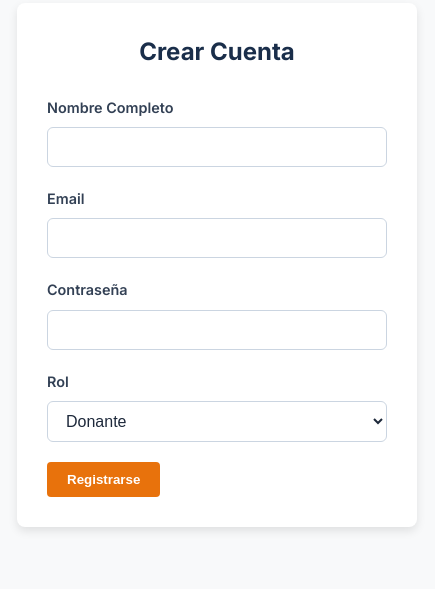
Test: Componente RegisterForm › debe mostrar mensaje de error si el registro falla
// Llenamos datos para que el formulario se envíe
Type "Matias" into the field labelled "Nombre Completo" at (217, 147), box [47, 127, 387, 167]
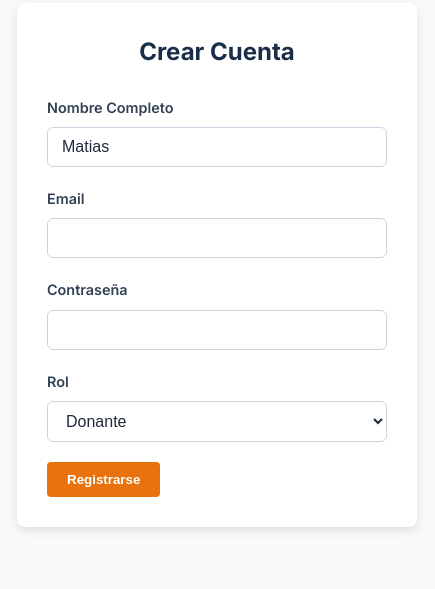
Type "m@m.cl" into the field labelled "Email" at (217, 238), box [47, 218, 387, 258]
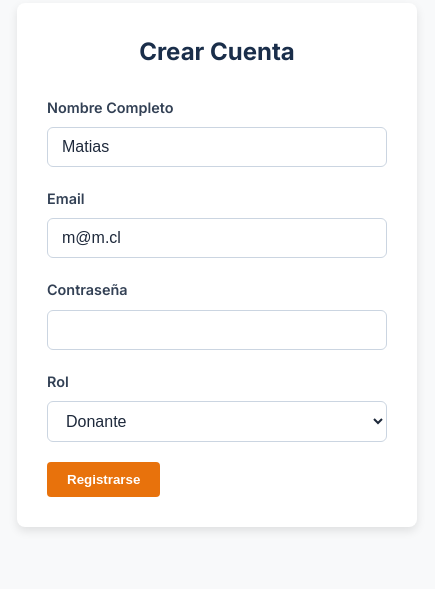
Type "1234" into the password field labelled "Contraseña" at (217, 330), box [47, 310, 387, 350]
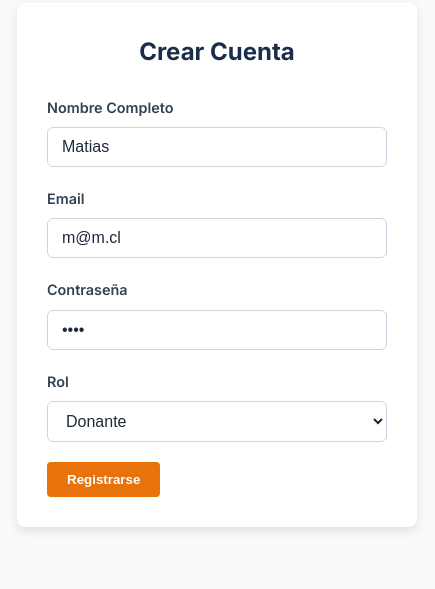
Click the button "Registrarse" at (104, 479), box [47, 462, 160, 497]
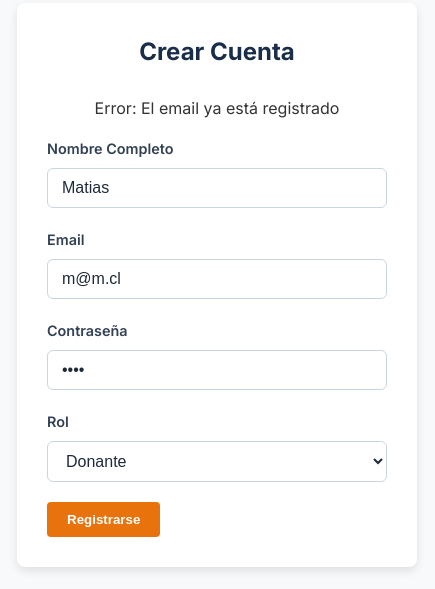
expect the text "Error: El email ya está registrado" is shown: met, box [95, 98, 339, 118]
